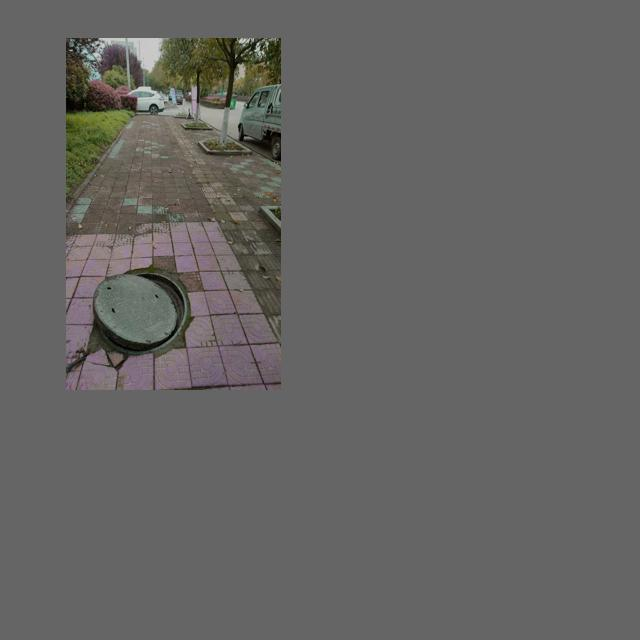uncovered: (92, 272, 188, 355)
